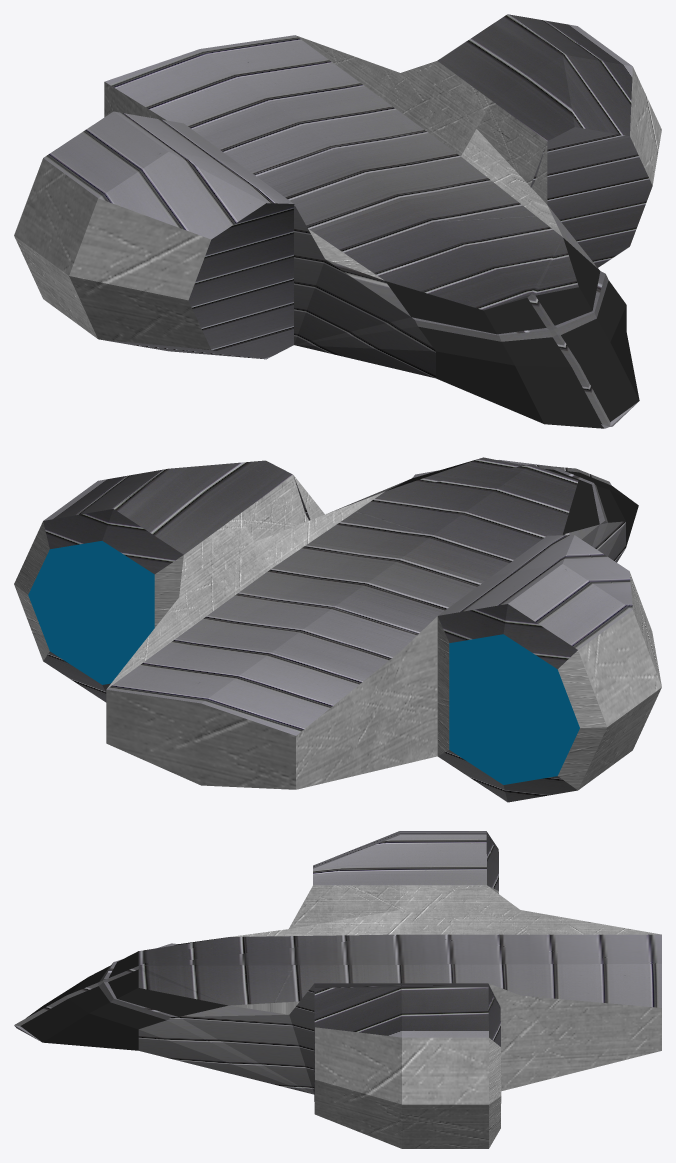
Rendered from runabout.obj.
3 renders of one model, top to bottom at view 1: azimuth 30°, elevation 25°; view 2: azimuth 150°, elevation 25°; view 3: azimuth 270°, elevation 25°, orthographic. The views are drawn at different scales.
Visible parts, largest first — view 1: Runabout_Ship_Metal1_metal2.JPG, Runabout_Ship_Metal2, Runabout_Ship_Cockpit, Runabout_Ship_Metal1; view 2: Runabout_Ship_Metal1_metal2.JPG, Runabout_Ship_Metal2, Runabout_Ship_engine, Runabout_Ship_Metal1, Runabout_Ship_Cockpit; view 3: Runabout_Ship_Metal1_metal2.JPG, Runabout_Ship_Metal2, Runabout_Ship_Metal1, Runabout_Ship_Cockpit.
Boxes of the visible parts, left/top/right/bottom form: Runabout_Ship_Metal1_metal2.JPG: left=43, top=14, right=652, bottom=428; Runabout_Ship_Metal2: left=14, top=35, right=661, bottom=349; Runabout_Ship_Cockpit: left=385, top=238, right=639, bottom=428; Runabout_Ship_Metal1: left=104, top=82, right=166, bottom=120; Runabout_Ship_Metal1_metal2.JPG: left=43, top=457, right=632, bottom=802; Runabout_Ship_Metal2: left=14, top=475, right=661, bottom=790; Runabout_Ship_engine: left=28, top=541, right=579, bottom=784; Runabout_Ship_Metal1: left=106, top=616, right=437, bottom=789; Runabout_Ship_Cockpit: left=387, top=458, right=638, bottom=547; Runabout_Ship_Metal1_metal2.JPG: left=14, top=831, right=661, bottom=1113; Runabout_Ship_Metal2: left=230, top=885, right=661, bottom=1148; Runabout_Ship_Metal1: left=488, top=983, right=661, bottom=1091; Runabout_Ship_Cockpit: left=20, top=938, right=227, bottom=1050.
Bounding box in the file's own units: 6.24 × 2 × 7.45.
Materials: 5 (5 with a texture image).
